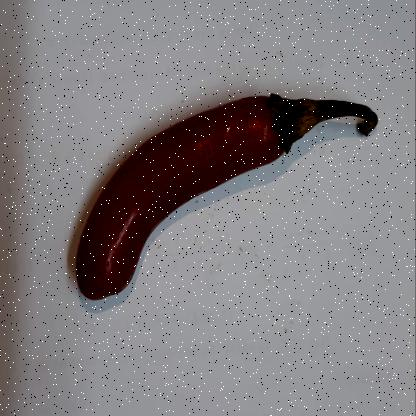chili: (75, 93, 376, 313)
